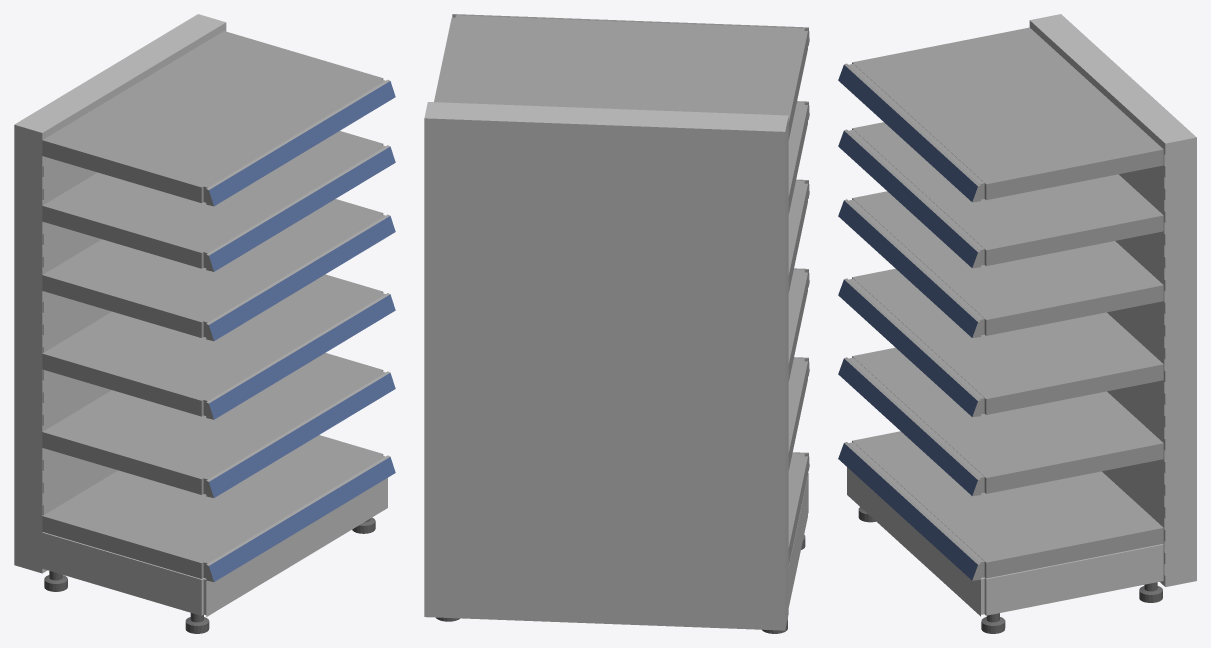
The model's file is shelf2.fbx.
3 renders of one model, left to right at view 1: azimuth 30°, elevation 25°; view 2: azimuth 150°, elevation 25°; view 3: azimuth 270°, elevation 25°, orthographic. The views are drawn at different scales.
Parts seen in each view (by area): view 1: group5, pCube13, pCube12; view 2: pCube13, group5, pCube12; view 3: group5, pCube13, pCube12.
Part boxes in pixels (<box>): group5: <box>42,31,395,581</box>; pCube13: <box>14,14,226,573</box>; pCube12: <box>42,478,387,616</box>; pCube13: <box>424,102,788,630</box>; group5: <box>434,14,809,565</box>; pCube12: <box>788,472,808,607</box>; group5: <box>838,27,1163,580</box>; pCube13: <box>1029,14,1196,586</box>; pCube12: <box>847,467,1163,616</box>.
Bounding box in the file's own units: 0.8016 × 1.04 × 0.733.
